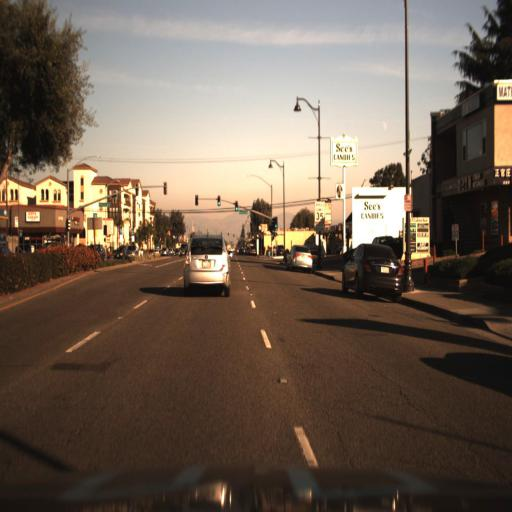car: (338, 239, 404, 309), (177, 224, 232, 304), (284, 242, 318, 278), (371, 227, 396, 249), (110, 243, 128, 266), (125, 245, 142, 266)
trafficLight-Green: (270, 218, 280, 238), (214, 190, 222, 206), (214, 194, 222, 210), (233, 198, 240, 214), (233, 204, 240, 218), (272, 218, 279, 230), (270, 229, 276, 239)
